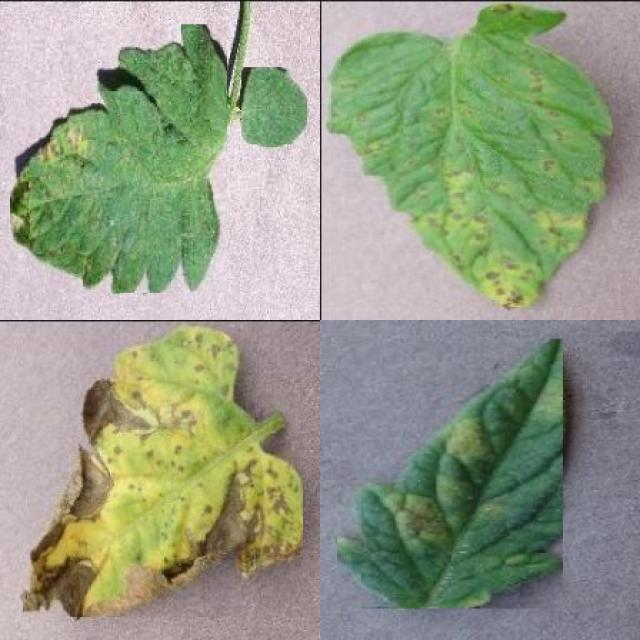Healthy: (242, 68, 308, 145)
Leaf Mold: (337, 338, 563, 608)
Septoria: (324, 0, 612, 307), (23, 320, 303, 617), (10, 25, 227, 294)
